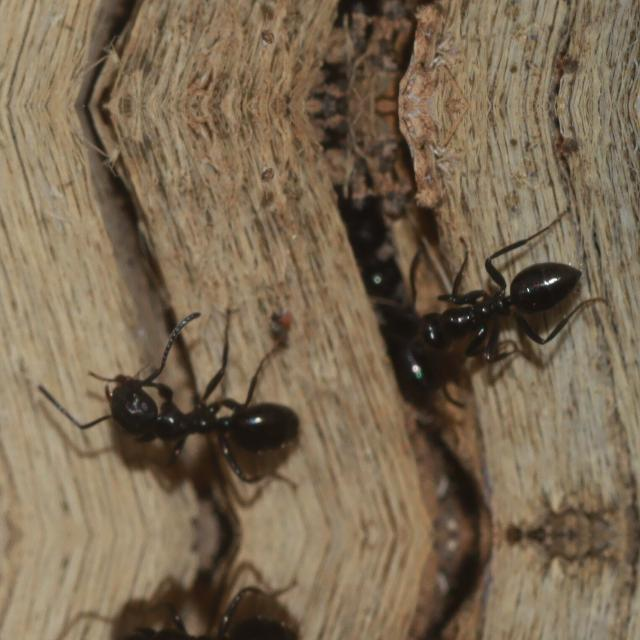Colobopsis: (62, 347, 312, 473), (390, 244, 604, 368), (62, 596, 312, 640)
